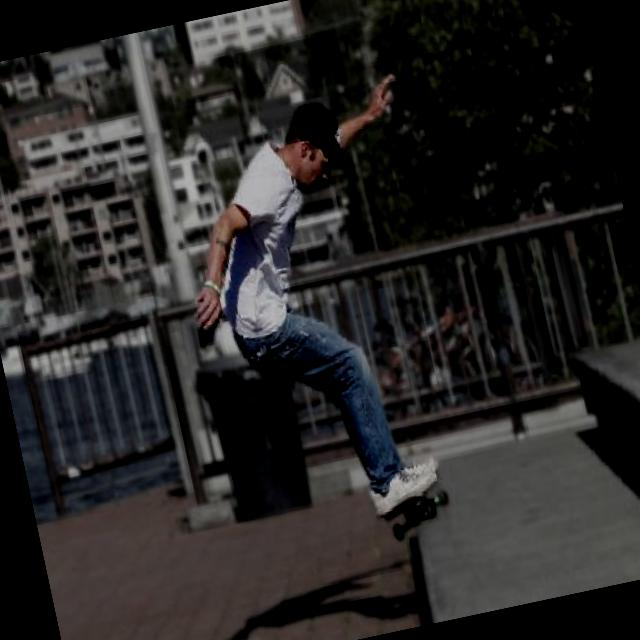Person: (152, 71, 484, 548), (325, 230, 350, 262)
